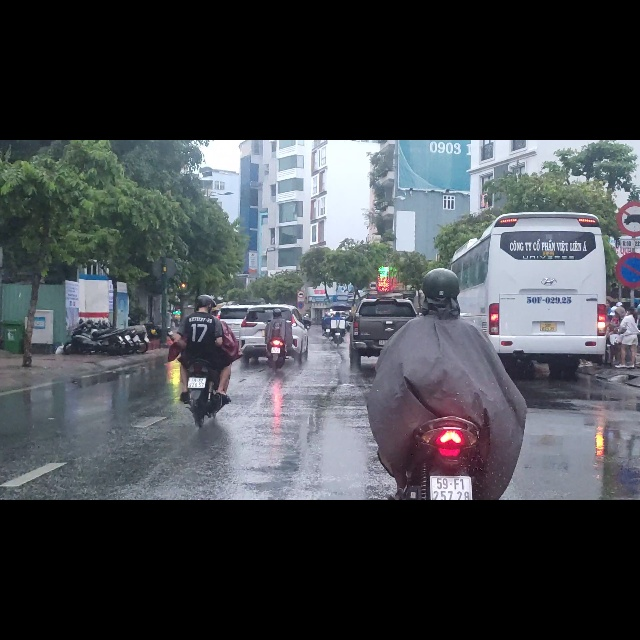bien_cam: (616, 197, 640, 264), (617, 107, 640, 171), (368, 251, 378, 267), (297, 267, 304, 280), (298, 286, 304, 300)
